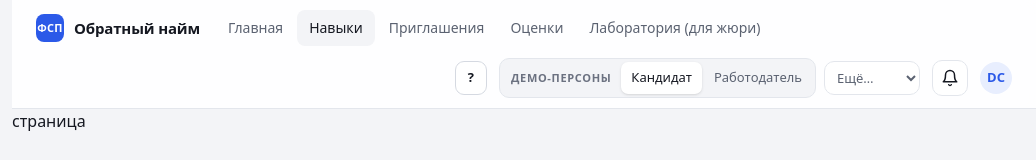
Layout › demo switch logs in as the chosen persona and opens the home page
Click the button "Работодатель".
click(758, 78)  # box [704,62,812,94]
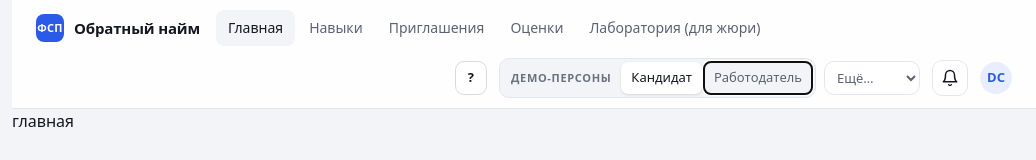
expect the text "главная" is shown: met, box [12,110,74,132]
